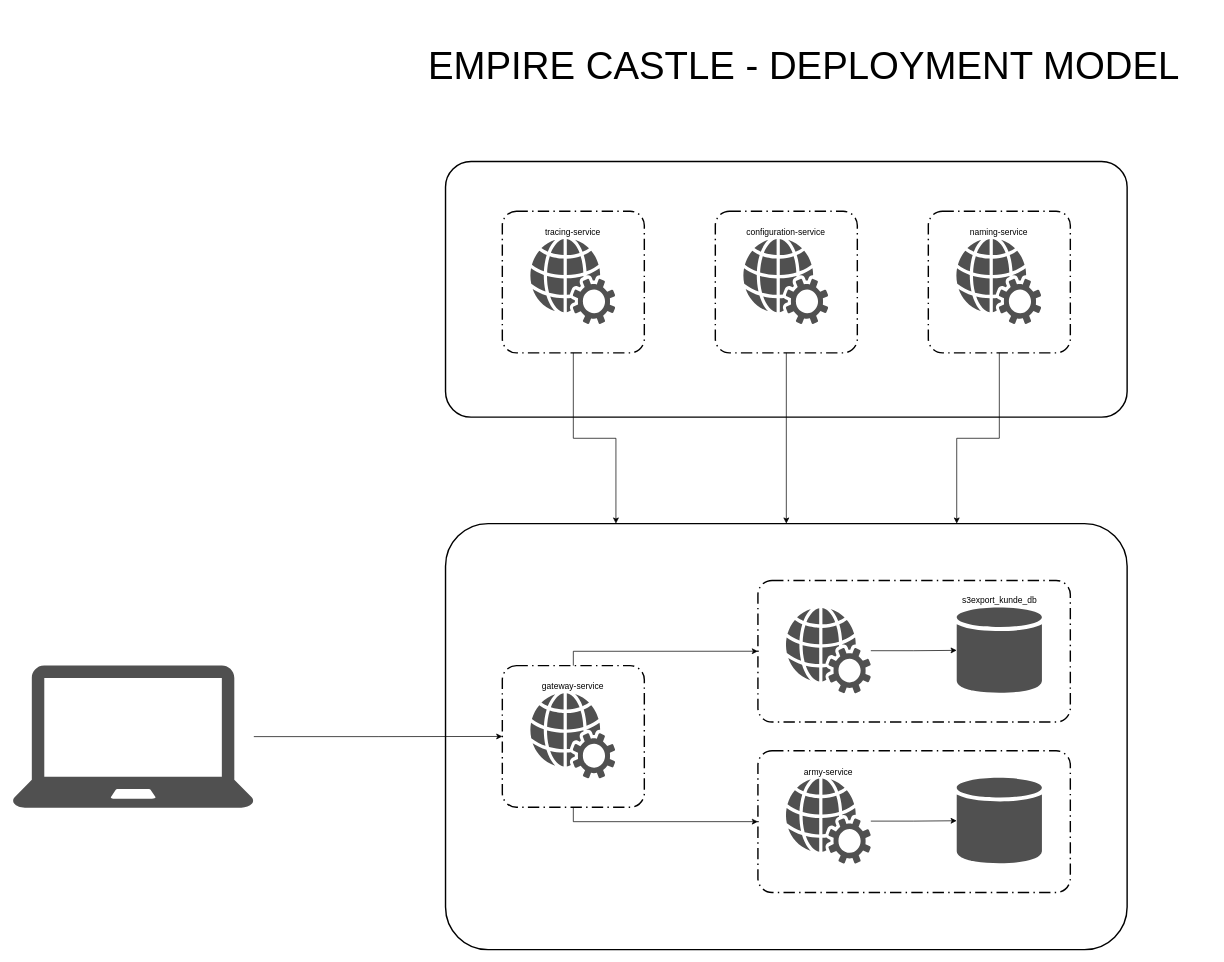
This 1224x962 diagram has some shape labels left out. Each missing label, with the centre of its shape:
client application: the point at 132,736
emp_army_db: the point at 999,820
soldier-service: the point at 827,650
